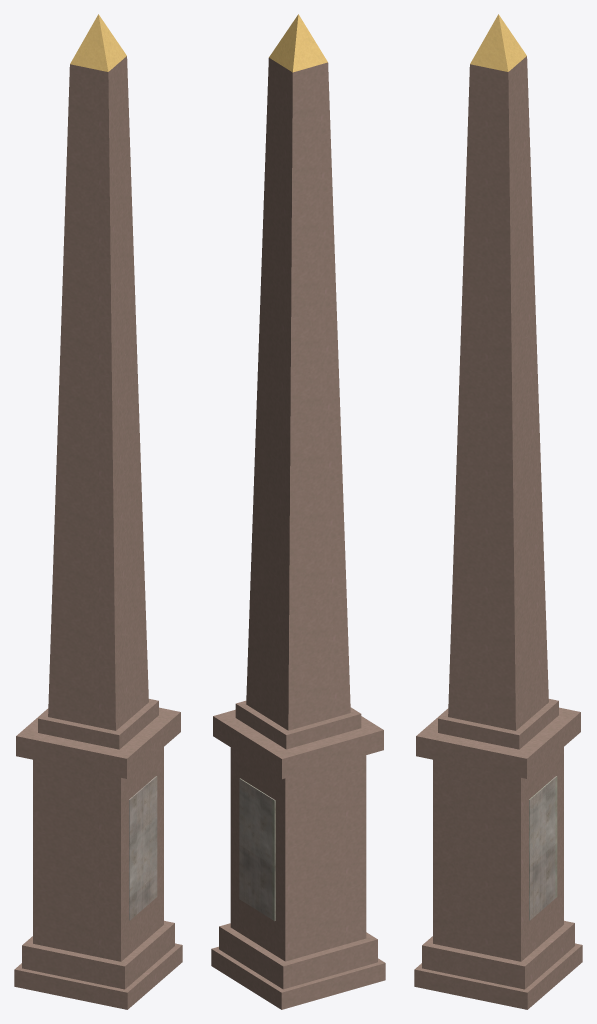
The model's file is obelisque-de-louxor.glb.
The picture shows the model from 3 angles, left to right: view 1: azimuth 90°, elevation 25°; view 2: azimuth 150°, elevation 25°; view 3: azimuth 270°, elevation 25°; orthographic projection.
Parts seen in each view (by area): view 1: stone, trim, metal; view 2: stone, trim, metal; view 3: stone, trim, metal.
Boxes of the visible parts, bbox=[...] form: stone: bbox=[14, 56, 182, 1009]; trim: bbox=[129, 776, 157, 920]; metal: bbox=[70, 14, 126, 71]; stone: bbox=[211, 58, 385, 1009]; trim: bbox=[239, 778, 275, 920]; metal: bbox=[269, 14, 327, 72]; stone: bbox=[414, 56, 582, 1009]; trim: bbox=[529, 776, 557, 920]; metal: bbox=[470, 14, 526, 71].
Size of the model in its own units: 5.29 by 33.37 by 5.29.
Materials: 3 (3 with a texture image).
